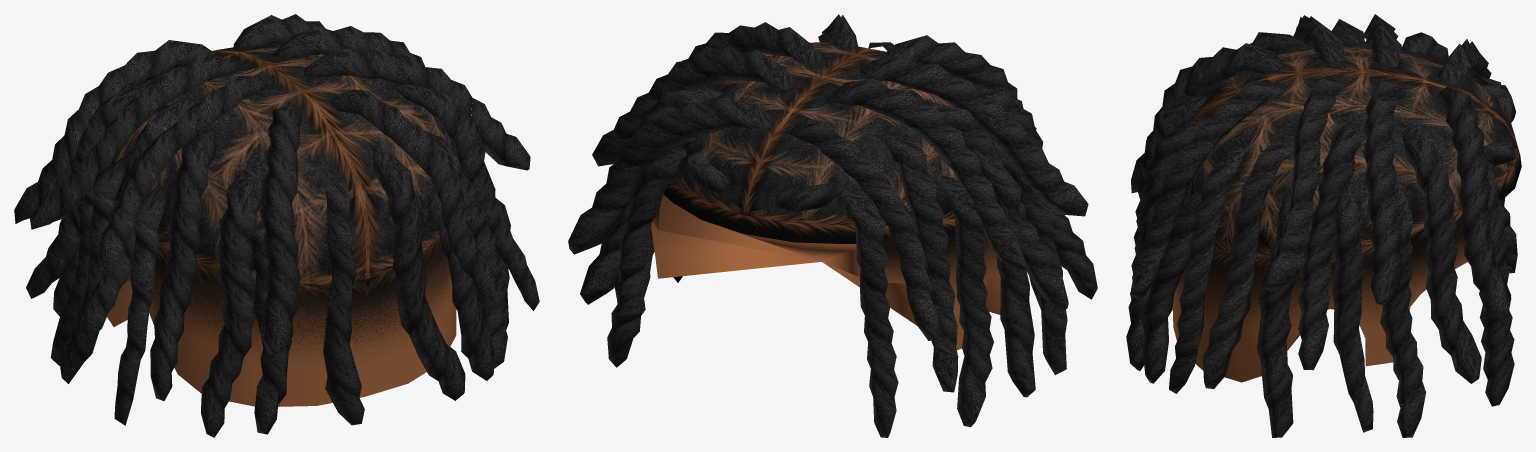
3 views of the same model, side by side, from view 1: azimuth 30°, elevation 25°; view 2: azimuth 150°, elevation 25°; view 3: azimuth 270°, elevation 25° (orthographic). The views are drawn at different scales.
Visible parts, largest first — view 1: geometry_0; view 2: geometry_0; view 3: geometry_0.
Part boxes in pixels (x1=…): geometry_0: x1=14, y1=14, x2=539, y2=437; geometry_0: x1=568, y1=14, x2=1097, y2=437; geometry_0: x1=1126, y1=14, x2=1521, y2=437.
Size of the model in its own units: 1.73 by 1.14 by 1.37.
1 material, 1 textured.
